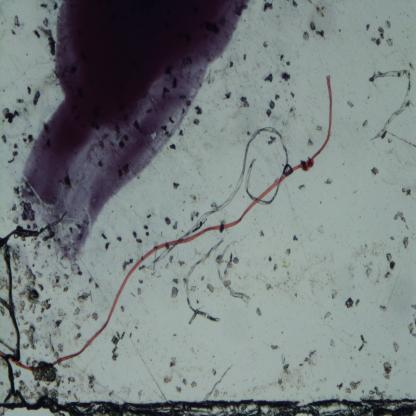Background material: (23, 268, 51, 312), (38, 18, 54, 60), (34, 368, 63, 388), (298, 347, 320, 370), (51, 270, 72, 294), (21, 324, 38, 352), (76, 288, 94, 310), (3, 106, 20, 126), (407, 301, 416, 338), (371, 26, 386, 47), (380, 359, 393, 381), (392, 209, 408, 226), (385, 250, 397, 271), (8, 143, 19, 165), (87, 276, 101, 293), (22, 201, 36, 218), (280, 352, 291, 373), (175, 378, 188, 395), (121, 257, 133, 275), (86, 372, 97, 391), (72, 261, 84, 278), (344, 380, 361, 392), (30, 88, 40, 108), (266, 254, 276, 274), (312, 3, 327, 16), (344, 296, 361, 307), (266, 99, 275, 119), (358, 334, 367, 354), (206, 280, 216, 296), (132, 231, 144, 244), (280, 72, 293, 84), (239, 96, 250, 110), (301, 30, 312, 44), (136, 278, 144, 297), (312, 29, 327, 39), (223, 89, 234, 102), (263, 0, 273, 14), (190, 377, 199, 392), (193, 104, 205, 115), (322, 309, 334, 320), (297, 182, 307, 195), (0, 132, 8, 148), (143, 222, 150, 240), (67, 373, 78, 384), (22, 134, 34, 144), (400, 186, 410, 198), (171, 287, 180, 300), (14, 13, 22, 27), (54, 316, 62, 330), (364, 266, 372, 280), (15, 96, 26, 106), (346, 99, 356, 110), (273, 90, 283, 101), (167, 140, 176, 152), (308, 20, 317, 32), (33, 28, 41, 41), (265, 71, 273, 84), (119, 301, 127, 314), (57, 308, 67, 318), (10, 27, 20, 37), (267, 135, 277, 145), (162, 214, 172, 224), (330, 290, 340, 300), (192, 117, 202, 127), (370, 166, 381, 175), (384, 19, 393, 30), (329, 338, 337, 350), (387, 36, 394, 49), (91, 312, 100, 322), (270, 342, 280, 351), (190, 211, 200, 220), (324, 176, 334, 185), (35, 314, 43, 325), (290, 235, 301, 243), (393, 342, 400, 354), (256, 306, 263, 318), (404, 236, 410, 250), (100, 231, 110, 239), (74, 331, 82, 341), (379, 304, 389, 312), (172, 180, 180, 190), (316, 124, 324, 134), (258, 229, 266, 239), (170, 276, 180, 284), (172, 220, 178, 233), (170, 356, 176, 369), (39, 3, 50, 10), (228, 59, 235, 70), (263, 41, 270, 52), (242, 52, 249, 63), (26, 85, 32, 97), (12, 216, 20, 225), (178, 129, 186, 138), (362, 120, 370, 129), (364, 23, 372, 32), (337, 381, 344, 391), (162, 375, 172, 382), (287, 245, 292, 258), (308, 139, 316, 147), (285, 60, 293, 68), (279, 54, 287, 62), (52, 3, 59, 12), (115, 236, 124, 242), (292, 0, 298, 9), (146, 212, 153, 219), (105, 242, 111, 250)
Cellulose filter fibre: (152, 126, 292, 268), (184, 239, 252, 322), (0, 243, 27, 404), (368, 68, 414, 141), (0, 211, 67, 250), (202, 363, 233, 401)
Edge of slide: (0, 398, 416, 416)
Microfibre: (0, 72, 344, 370)
Natural material: (111, 333, 126, 362)
Pen: (24, 0, 250, 260)
